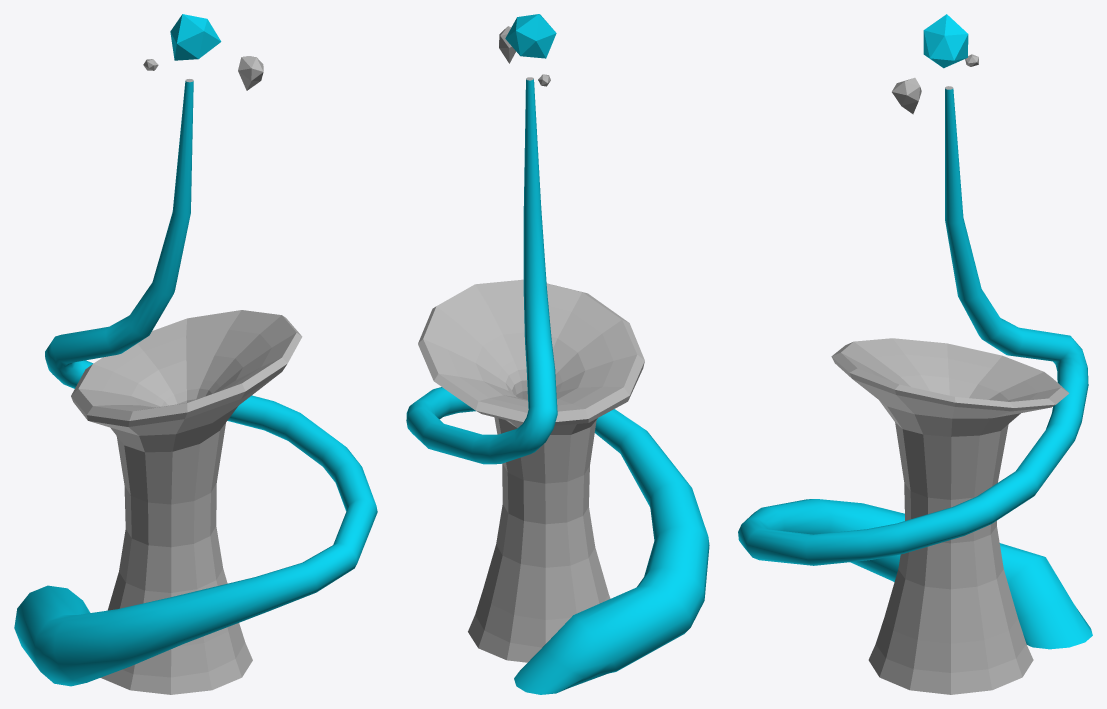
Rendered from lvl1W.fbx.
3 renders of one model, left to right at view 1: azimuth 30°, elevation 25°; view 2: azimuth 150°, elevation 25°; view 3: azimuth 270°, elevation 25°, orthographic. The views are drawn at different scales.
Visible parts, largest first — view 1: lvl1W; view 2: lvl1W; view 3: lvl1W.
Part boxes in pixels (left/top/right/bottom): lvl1W: left=14, top=14, right=377, bottom=694; lvl1W: left=406, top=14, right=709, bottom=694; lvl1W: left=738, top=14, right=1092, bottom=694.
Bounding box in the file's own units: 417 × 869 × 430.
